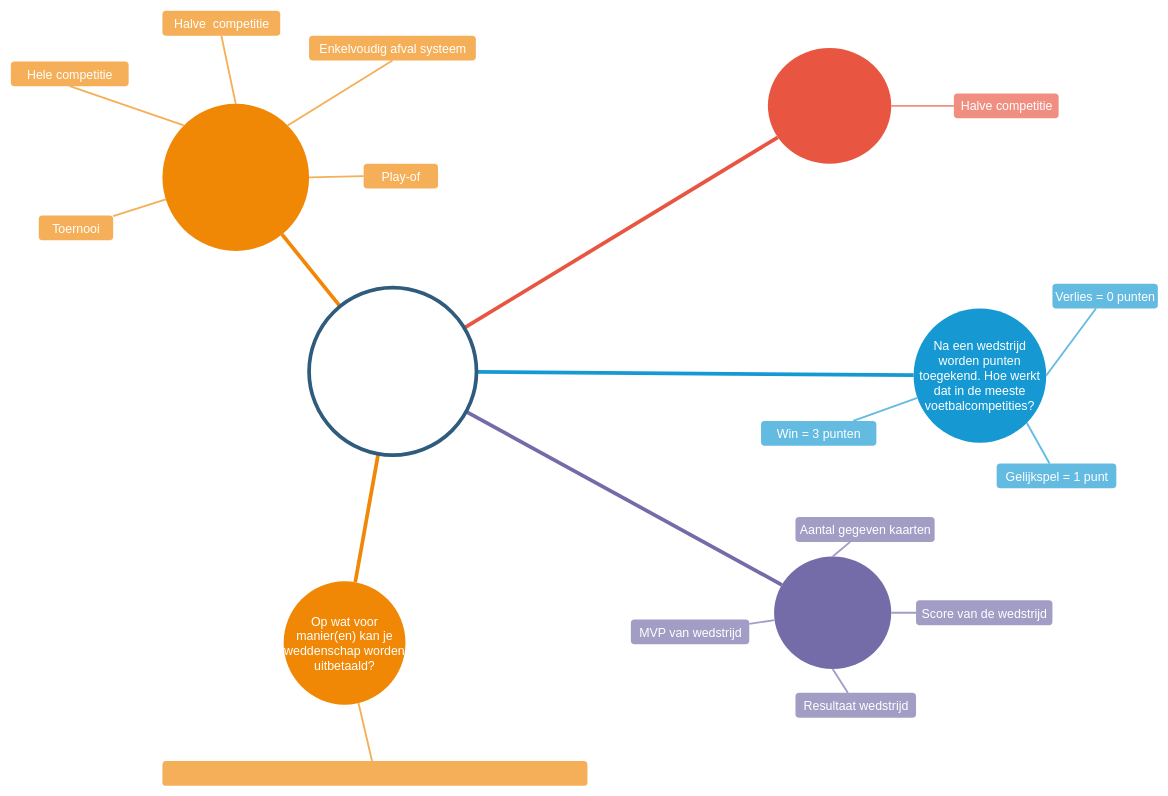
This 1168x796 diagram has some shape labels left out. Each missing label, with the centre of its shape:
"C3" goes at point 392,371.
"De punten die ik in de app het verdiend. Kan ik deze ergens aan besteden?" goes at point 374,773.
"Op wat voor manieren kun je gokken op een voetbalwedstrijd?" goes at point 832,612.
"Wat voor competitievormen zijn er in het voetbal?" goes at point 235,177.
"Welke vorm zie je in het gegeven voorbeeldschema?" goes at point 829,105.
